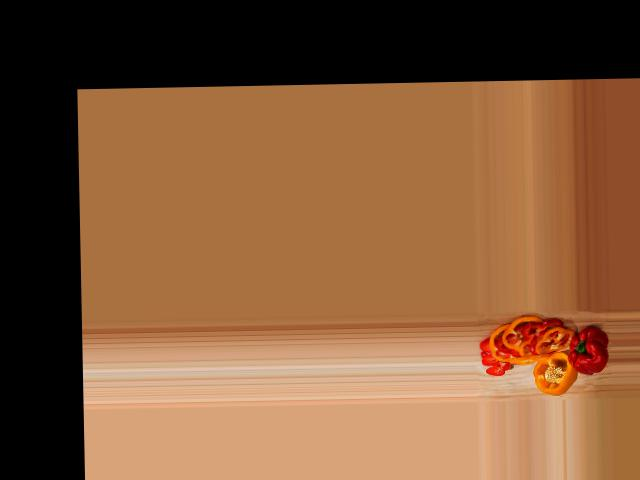bell_pepper: (530, 352, 575, 397)
